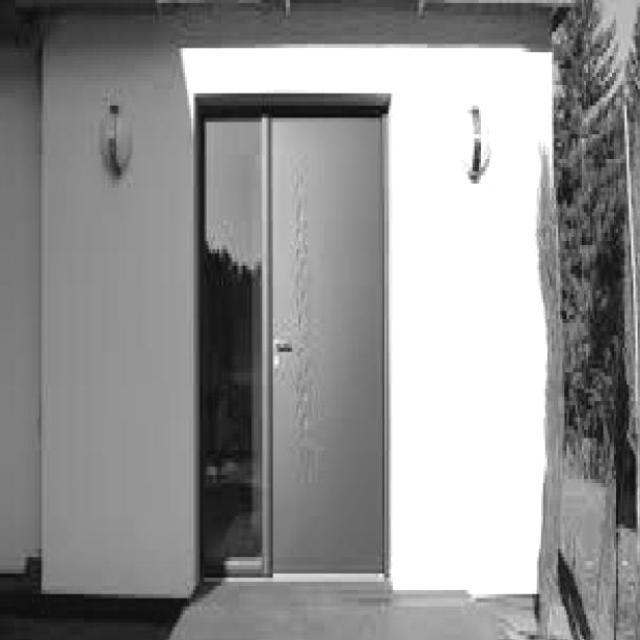door: (257, 95, 388, 582)
